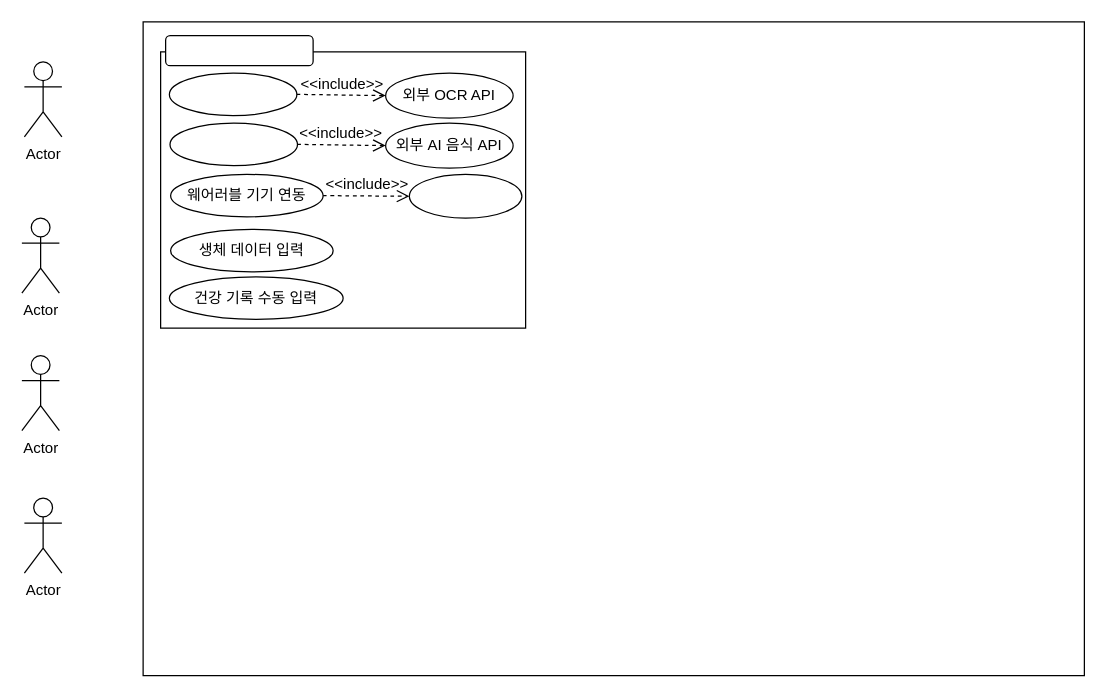
The diagram is 1106 pixels wide and 698 high, and some of its shapes have lost their labels. Each missing label, with the box of its shape:
Health API: (408, 173, 522, 218)
건강 OCR 등록: (168, 72, 297, 116)
데이터 수집 & 자동화: (164, 34, 313, 66)
식단 사진 기록: (169, 122, 298, 166)
